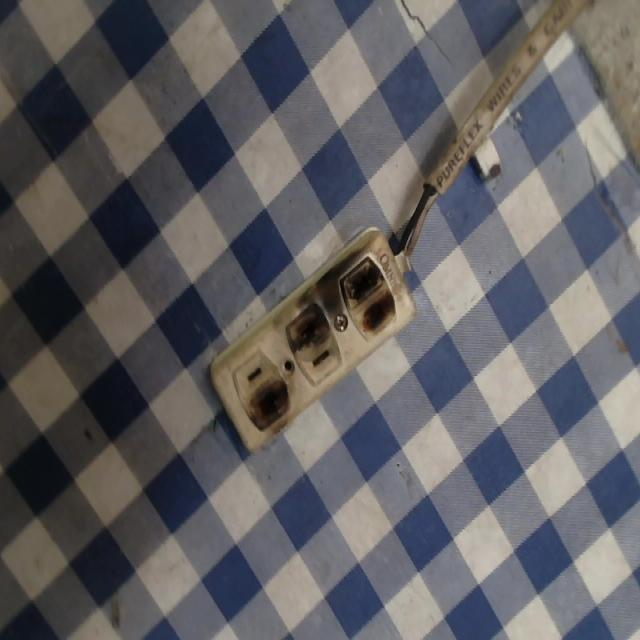-: (337, 244, 397, 343), (271, 298, 335, 358), (248, 376, 290, 435)
